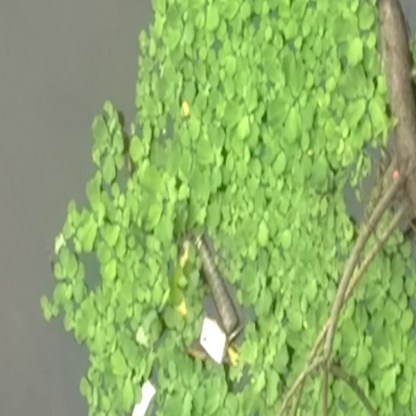branch: (364, 3, 416, 246)
